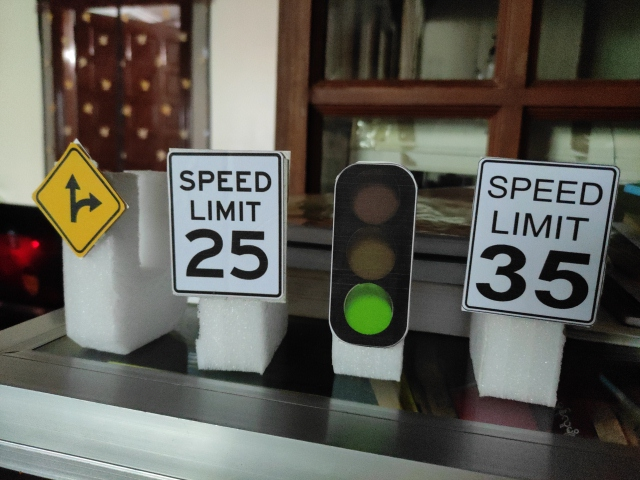Green Traffic Light: (330, 161, 417, 348)
Speed Limit 25: (166, 148, 288, 301)
Speed Limit 35: (461, 158, 619, 324)
Straight Or Right Sign: (34, 144, 125, 255)
